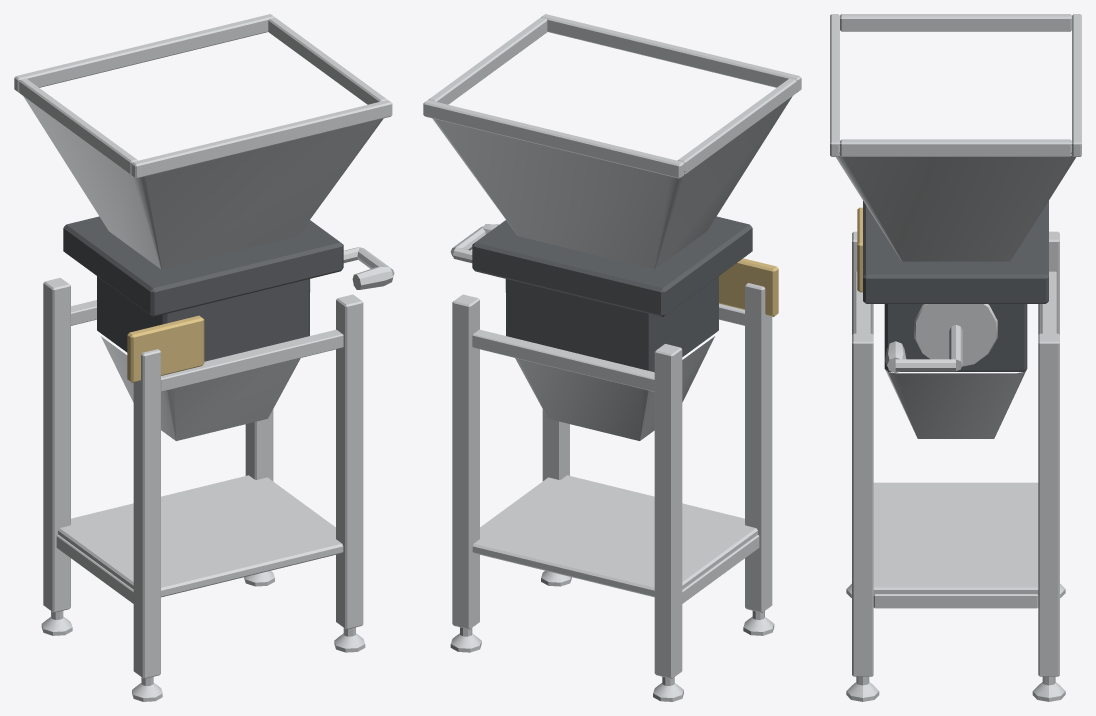
File: bar-pub-and-brewery-taproom-malt-mill-b4e2b2ac__18402.glb
3 views of the same model, side by side, from view 1: azimuth 30°, elevation 25°; view 2: azimuth 150°, elevation 25°; view 3: azimuth 270°, elevation 25° (orthographic). The views are drawn at different scales.
Visible parts, largest first — view 1: malt-mill; view 2: malt-mill; view 3: malt-mill.
Part boxes in pixels (x1,y1,x2,y2): malt-mill: (14,14,394,701); malt-mill: (423,14,801,701); malt-mill: (830,14,1081,701).
Bounding box in the file's own units: 0.632 × 1.14 × 0.46.
